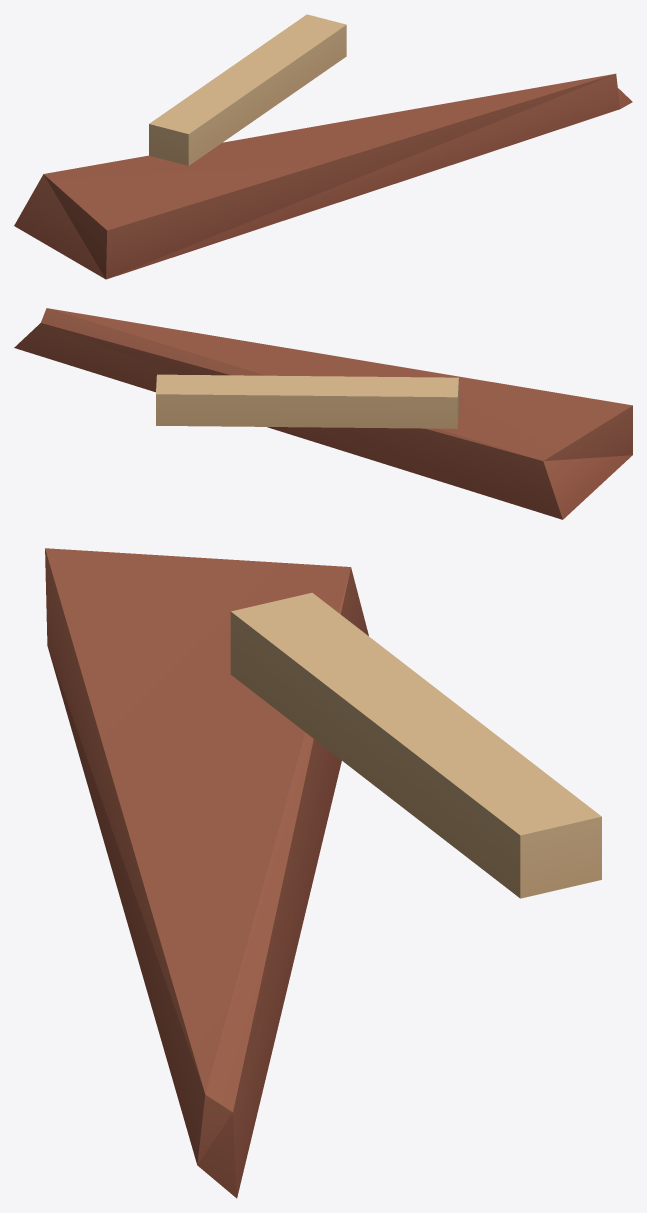
Rendered from debris_wood_a.glb.
3 views of the same model, one above another, from view 1: azimuth 30°, elevation 25°; view 2: azimuth 150°, elevation 25°; view 3: azimuth 270°, elevation 25° (orthographic). The views are drawn at different scales.
Parts seen in each view (by area): view 1: debris_wood_a; view 2: debris_wood_a; view 3: debris_wood_a.
Part boxes in pixels (box(x1,y1,x2,y2)): debris_wood_a: box(14, 14, 632, 279); debris_wood_a: box(14, 308, 632, 519); debris_wood_a: box(45, 548, 601, 1198).
Size of the model in its own units: 0.5788 by 0.0787 by 0.2397.
Materials: 1 (1 with a texture image).
